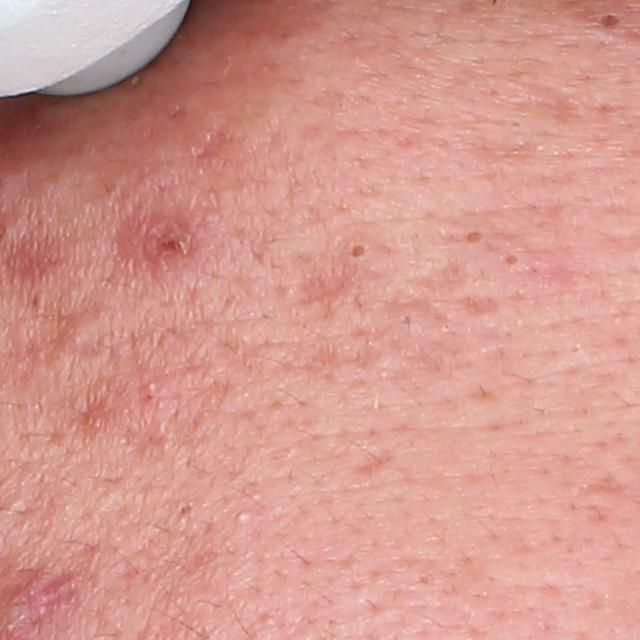atrophic_scar: (113, 180, 186, 284), (299, 259, 361, 317), (12, 302, 67, 364), (402, 254, 479, 298), (350, 443, 397, 481), (447, 291, 503, 322), (196, 121, 226, 166)
comedo: (394, 309, 420, 333), (595, 12, 622, 32), (233, 508, 257, 529)
papule: (145, 228, 195, 269)
